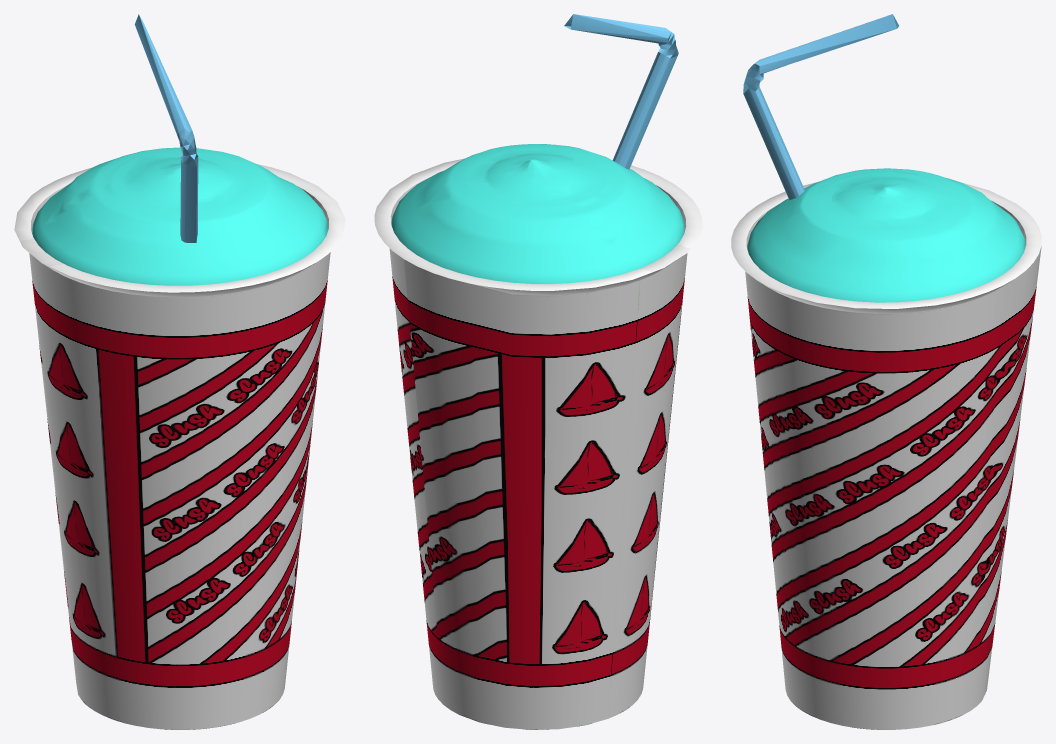
Rendered from 슬러쉬 2.fbx.
3 views of the same model, side by side, from view 1: azimuth 30°, elevation 25°; view 2: azimuth 150°, elevation 25°; view 3: azimuth 270°, elevation 25° (orthographic). The views are drawn at different scales.
Visible parts, largest first — view 1: Cylinder002, Cylinder003, Cylinder004; view 2: Cylinder002, Cylinder003, Cylinder004; view 3: Cylinder002, Cylinder003, Cylinder004.
Boxes of the visible parts, x1,y1,x2,y2 form: Cylinder002: (14, 164, 345, 729); Cylinder003: (32, 147, 328, 285); Cylinder004: (134, 14, 198, 242); Cylinder002: (374, 158, 702, 729); Cylinder003: (391, 144, 684, 283); Cylinder004: (564, 14, 678, 169); Cylinder002: (731, 182, 1041, 729); Cylinder003: (747, 168, 1025, 302); Cylinder004: (743, 14, 898, 199).
Size of the model in its own units: 7.88 by 17.87 by 7.67.
3 materials, 1 textured.
